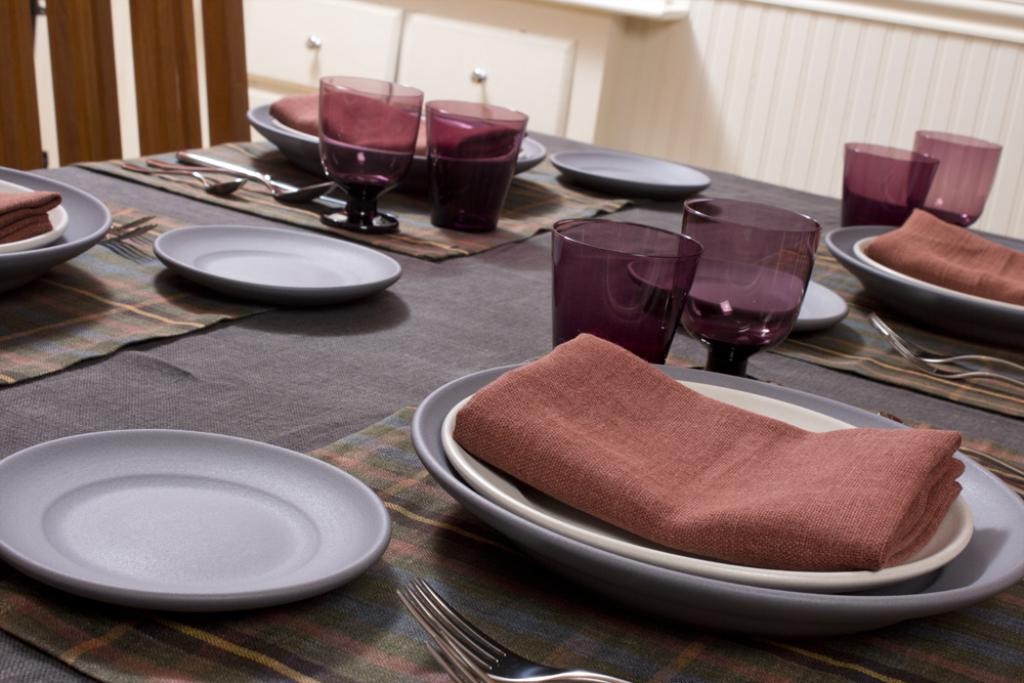plate: (149, 222, 409, 299)
